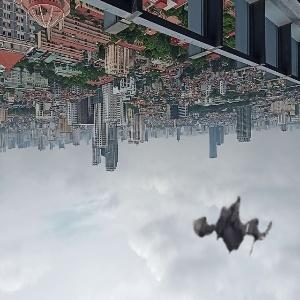drone: (184, 196, 275, 287)
